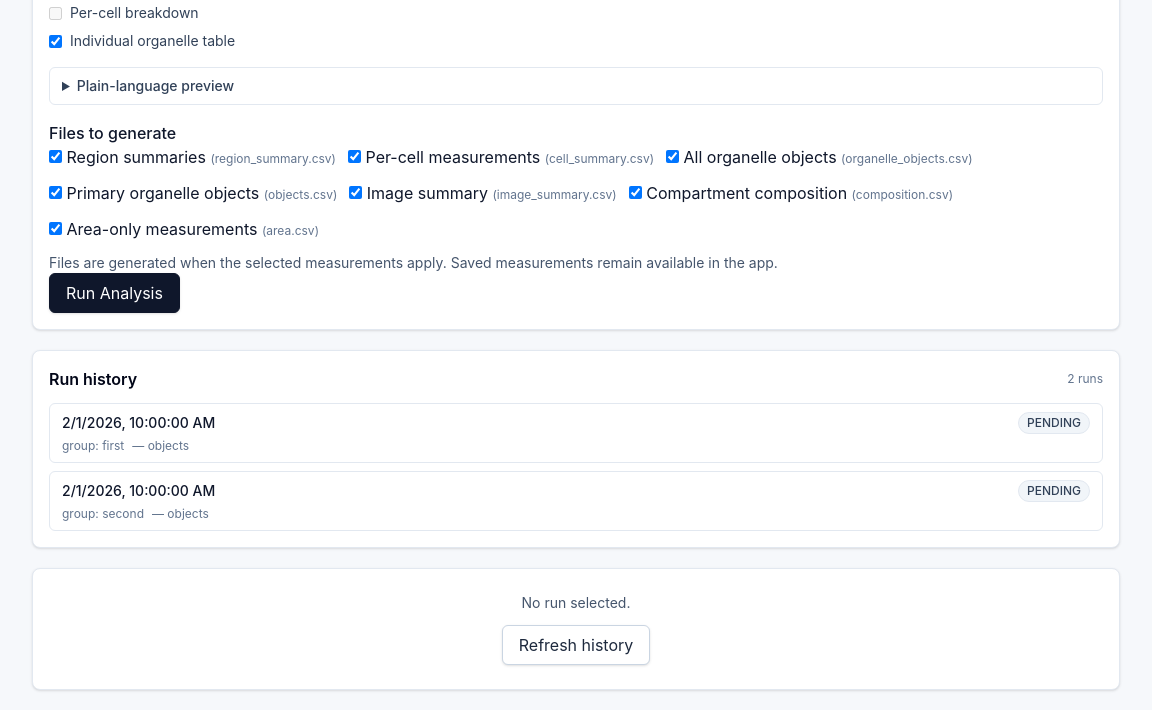
Test: AnalysisScreen › does not attach a late cancellation to another selected run
(page scrolled)
Click the button "2/1/2026, 10:00:00 AM PENDING group: first — objects".
click(139, 422)  # box [49,403,1103,463]
(page scrolled)
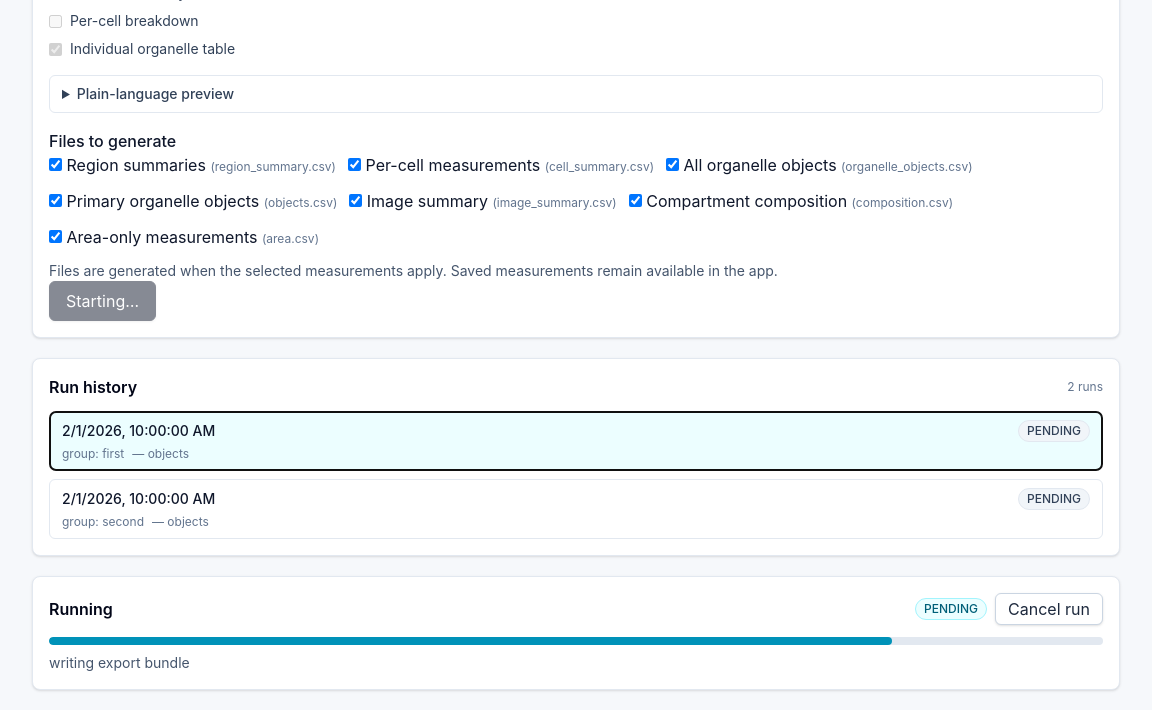
Click the button "Cancel run".
click(1049, 609)  # box [995,593,1103,625]
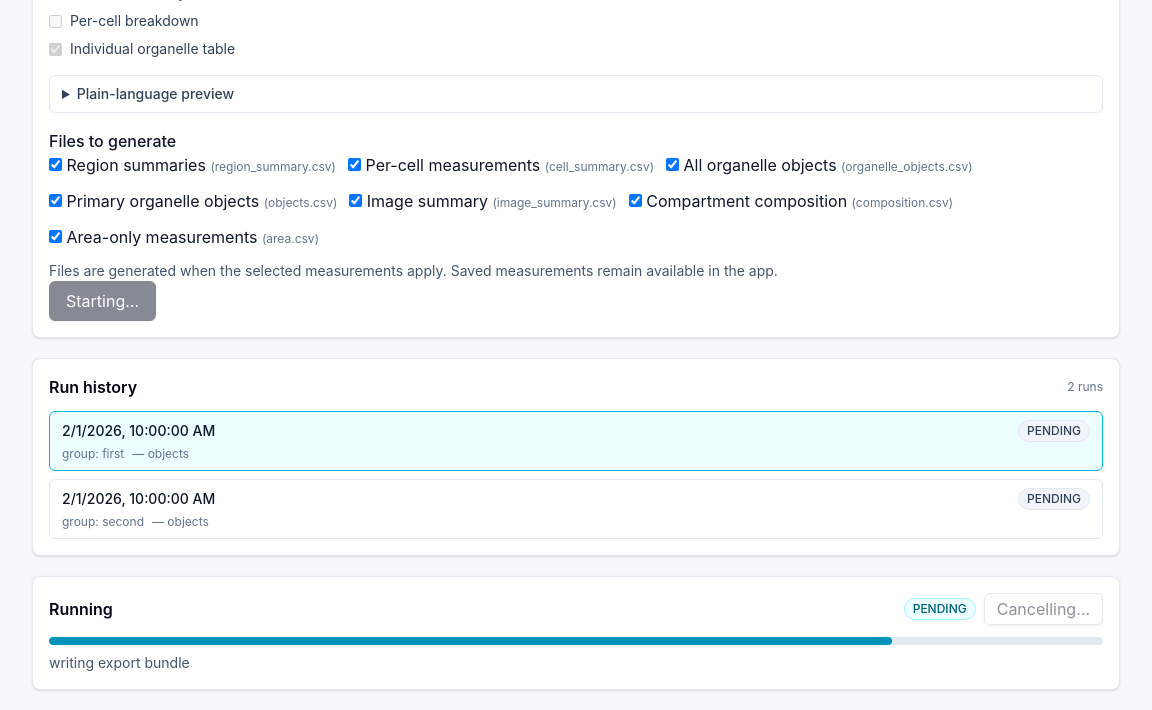
Click the button "2/1/2026, 10:00:00 AM PENDING group: second — objects".
click(139, 498)  # box [49,479,1103,539]
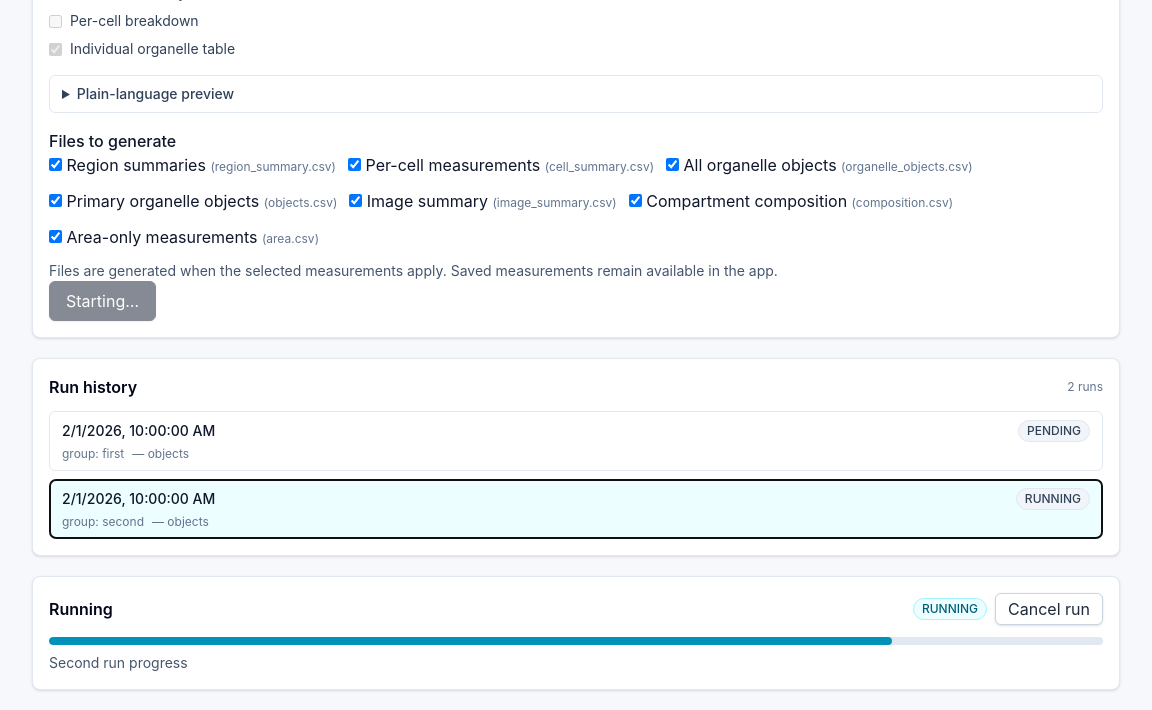
Expected: the text "Second run progress" is shown, [49,654,188,671]
Expected: the button "Cancel run" is enabled, [995,593,1103,625]
